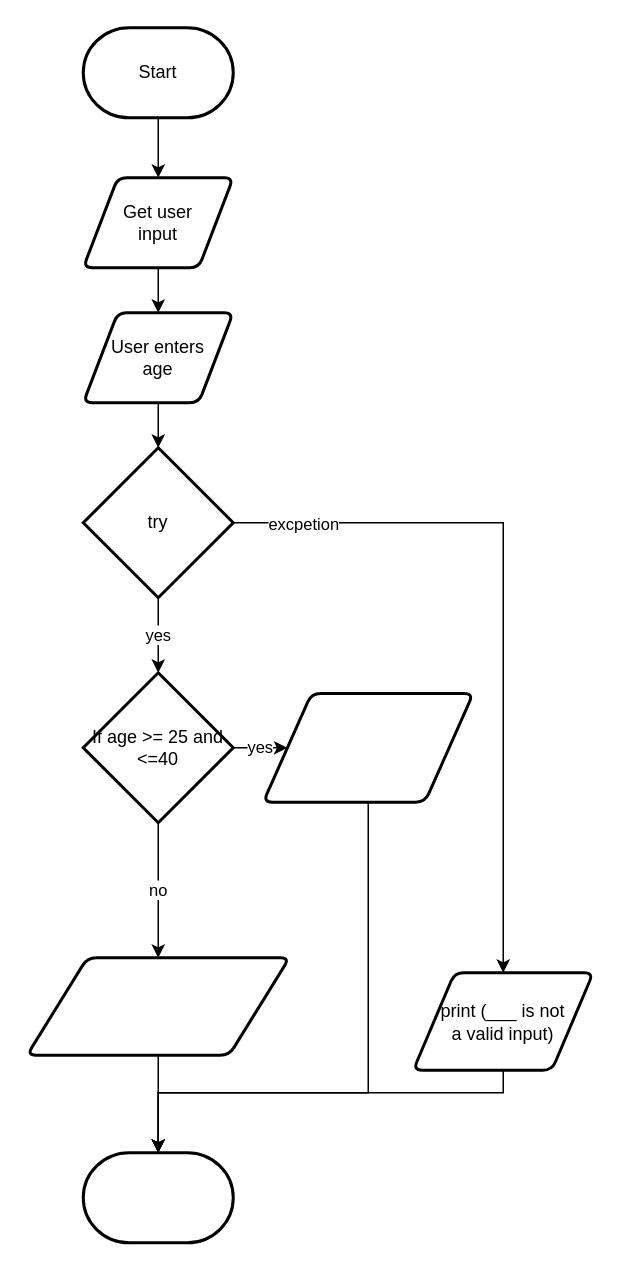
The diagram is 621 pixels wide and 1281 high, and some of its shapes have lost their labels. The shapes that lost their labels are listed below. From the top down, each one's box as (x1, y1, x2, y2) in pixels, then its label:
(261, 691, 474, 803): print (You are eligible to date my grandchild)
(25, 956, 290, 1056): print (You are not eligible to date my grandchild)
(81, 1150, 234, 1244): Stop
